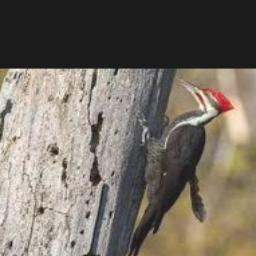Woodpecker: (123, 77, 235, 256)
